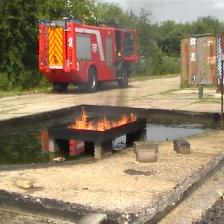fire: (67, 107, 137, 132)
